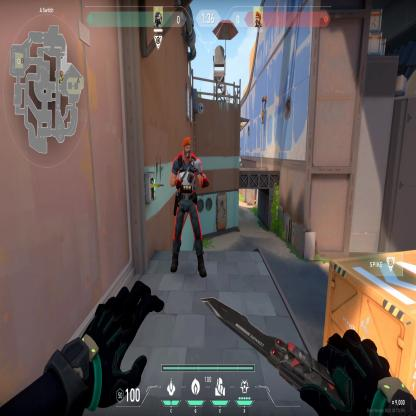enemy: (165, 131, 211, 281)
